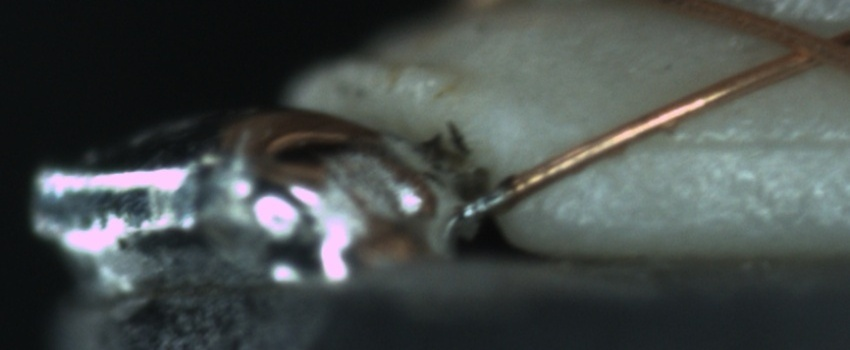CL: (761, 14, 844, 79)
DL: (622, 109, 847, 179)
TS: (459, 187, 509, 219)
